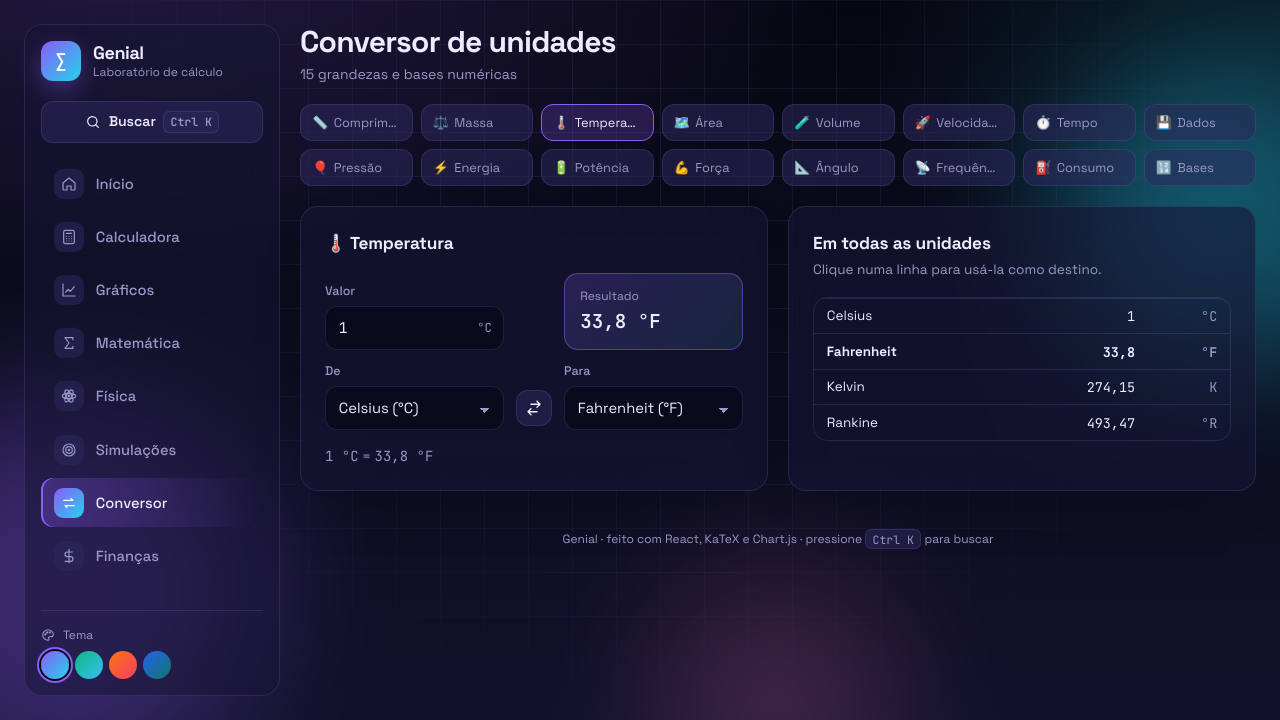
Scenario: Genial app › unit converter converts temperature
The image size is (1280, 720).
Replace the text in the field labelled "Valor °C" with "100" at (414, 328), box [325,306,504,350]
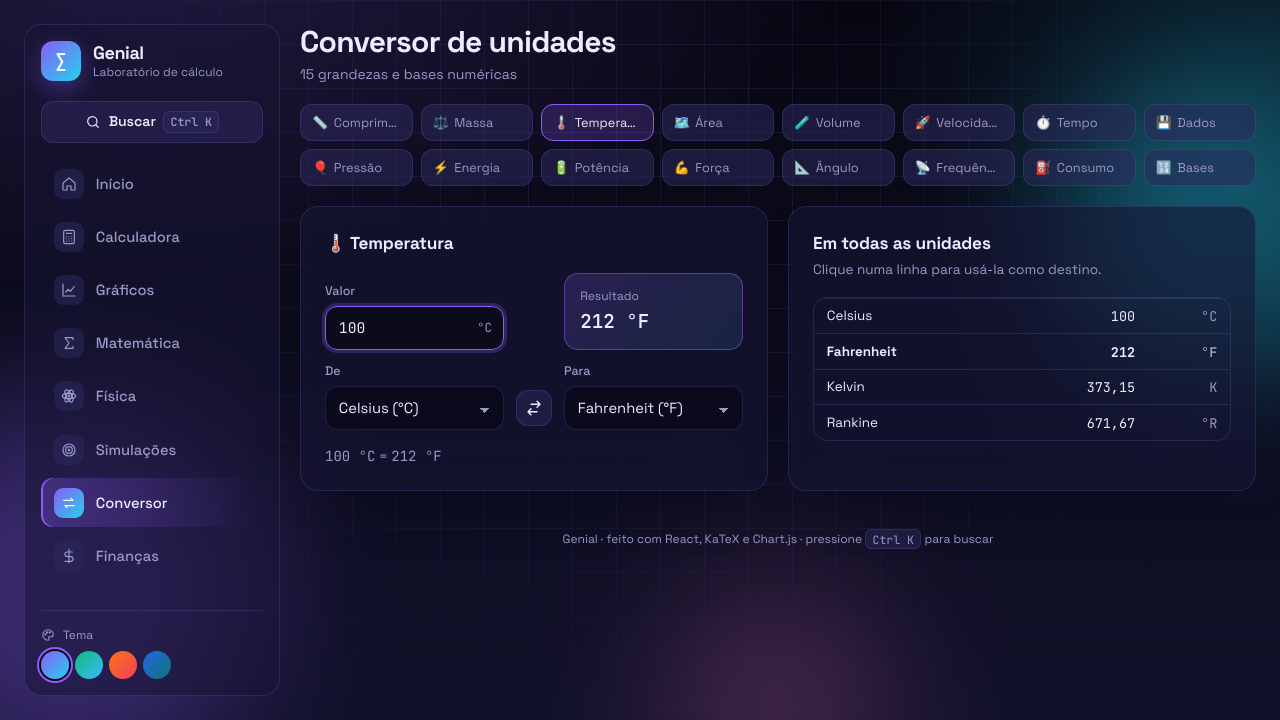
Expected: the text with test id "unit-result" reads "212 °F", [580,308,649,334]
